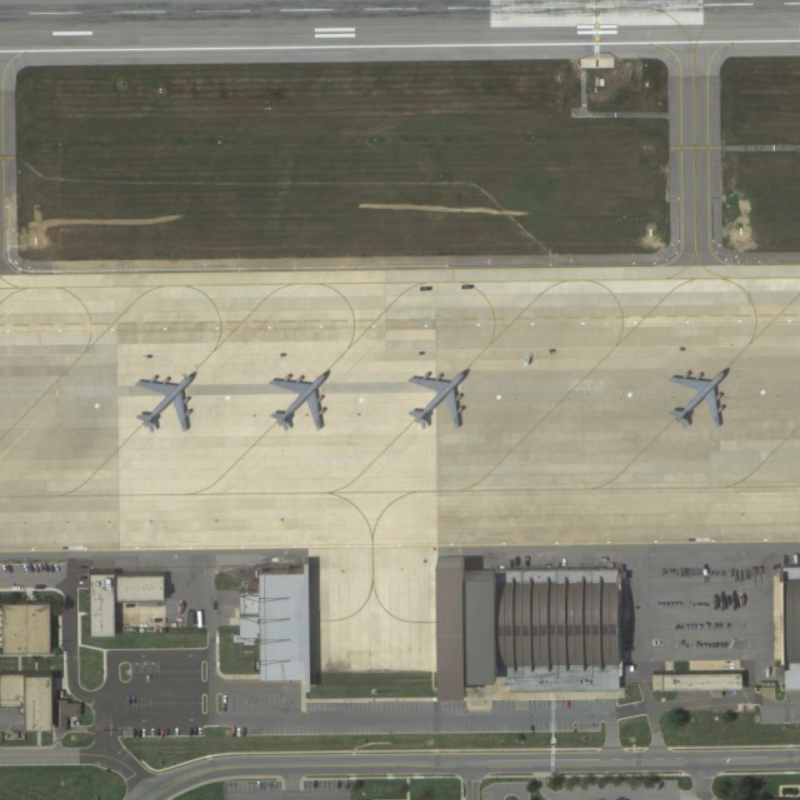A14: (266, 366, 336, 434), (132, 368, 202, 434), (405, 366, 472, 432), (666, 363, 733, 428)
